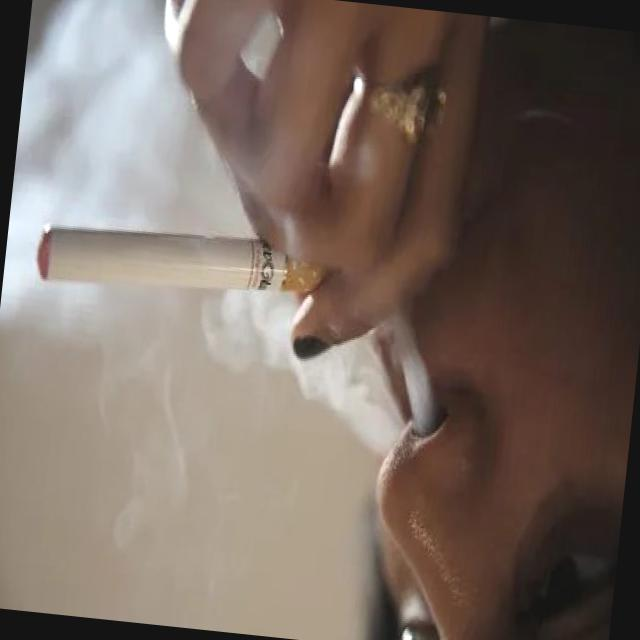cigarette: (27, 203, 336, 314)
